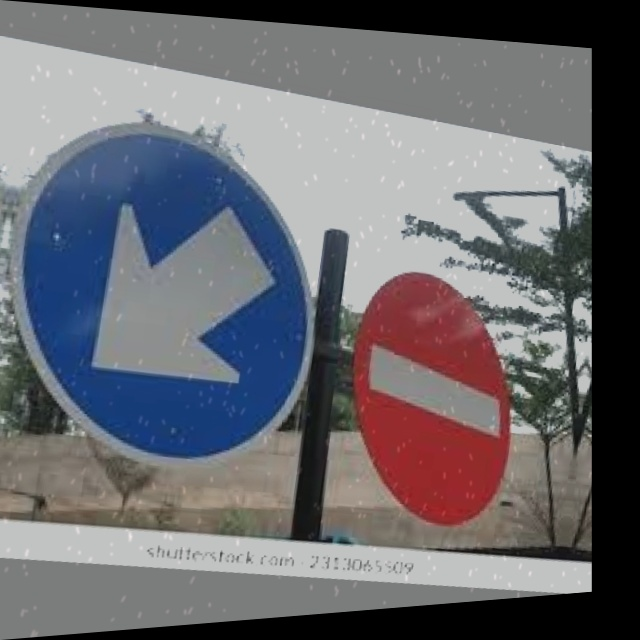Compulsory_Keep_Left: (1, 109, 343, 466)
